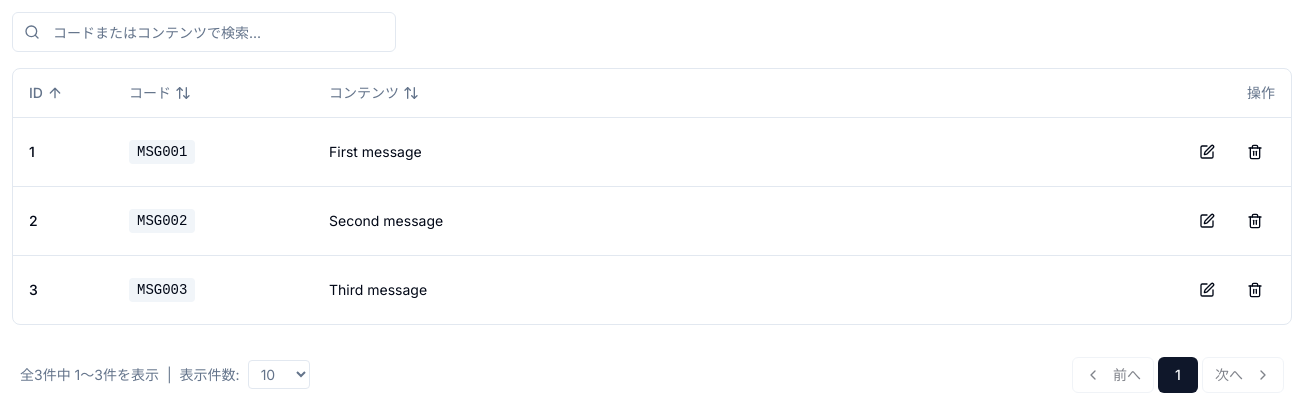
Scenario: MessageTable › 検索機能 › 検索クエリでフィルタリングできる
The width and height of the screenshot is (1292, 410).
Type "MSG001" into the field with test id "search-input" at (204, 32), box [12,12,396,52]
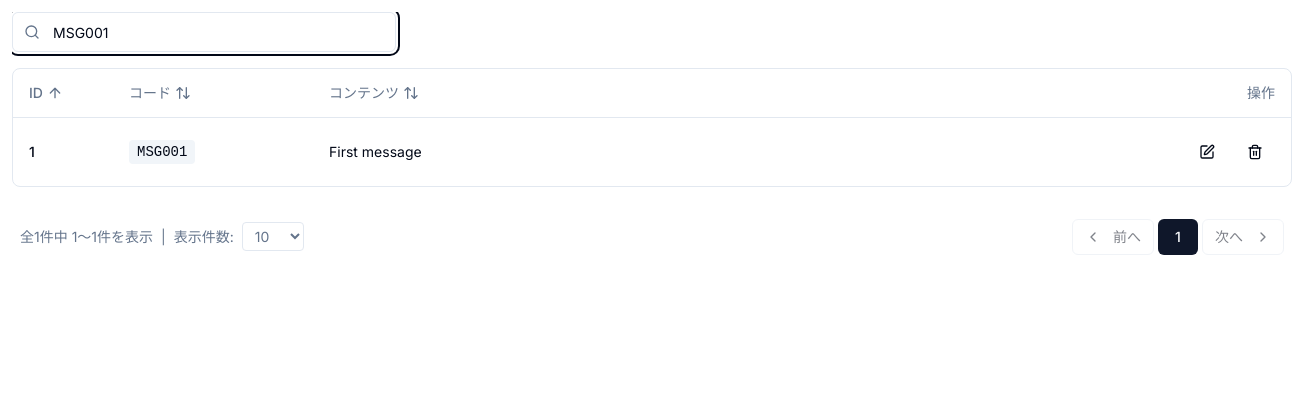
Expected: the text "MSG001" is shown, [129,140,195,164]
Result: the text "MSG002" is gone
Result: the text "MSG003" is gone
